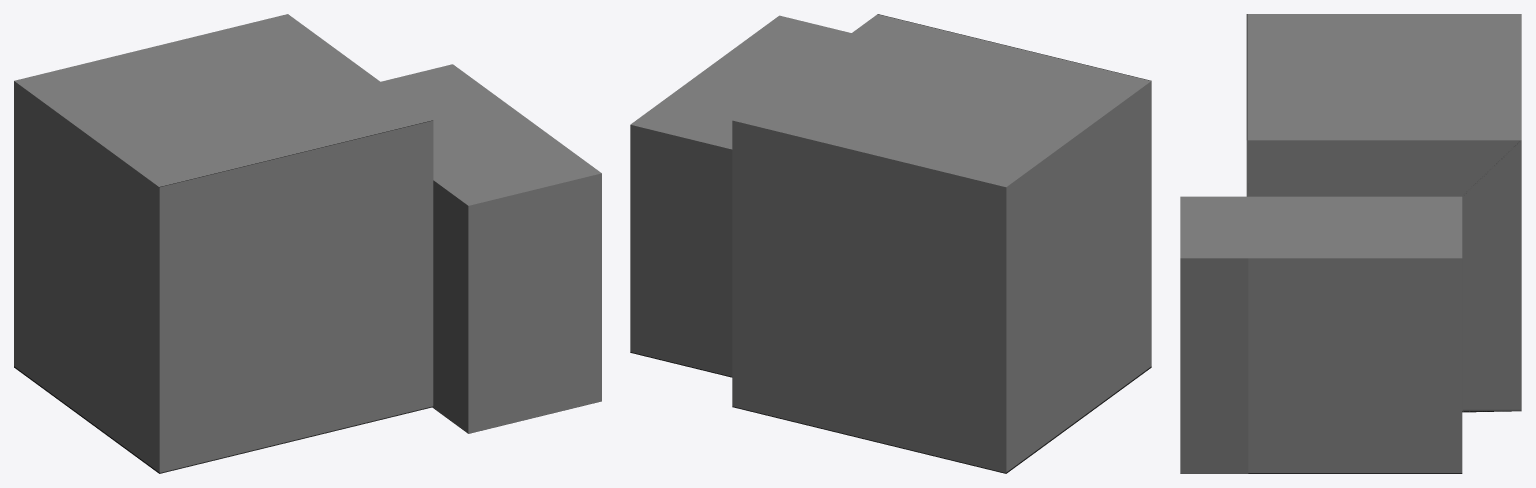
The model's file is 돌 (가로로 나온).fbx.
3 views of the same model, side by side, from view 1: azimuth 30°, elevation 25°; view 2: azimuth 150°, elevation 25°; view 3: azimuth 270°, elevation 25° (orthographic). The views are drawn at different scales.
Parts seen in each view (by area): view 1: Box004; view 2: Box004; view 3: Box004.
Boxes of the visible parts, x1,y1,x2,y2 form: Box004: [14, 14, 601, 473]; Box004: [630, 14, 1151, 473]; Box004: [1180, 14, 1521, 473].
Bounding box in the file's own units: 37.18 × 25.1 × 28.54.
Materials: 1 (1 with a texture image).
